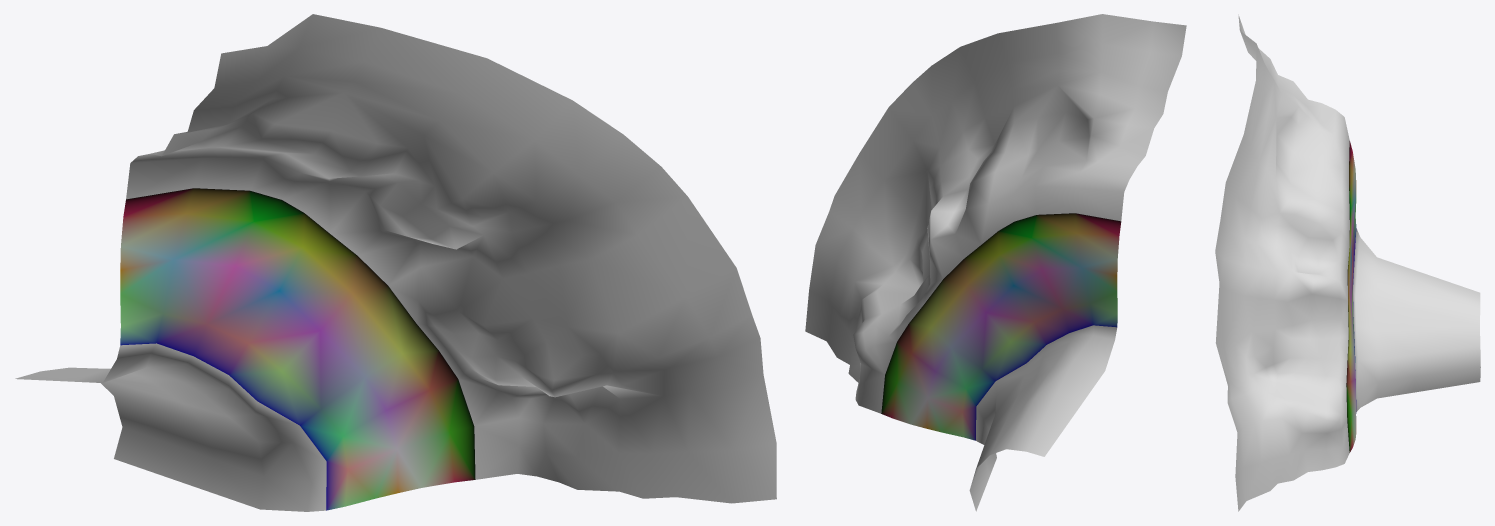
Rendered from Snow_CurveInC_lod2.glb.
3 views of the same model, side by side, from view 1: azimuth 30°, elevation 25°; view 2: azimuth 150°, elevation 25°; view 3: azimuth 270°, elevation 25° (orthographic). The views are drawn at different scales.
Visible parts, largest first — view 1: MeshNode_1, MeshNode_0; view 2: MeshNode_1, MeshNode_0; view 3: MeshNode_1, MeshNode_0.
Part boxes in pixels (bbox=[...]): MeshNode_1: bbox=[15, 14, 776, 511]; MeshNode_0: bbox=[120, 188, 475, 510]; MeshNode_1: bbox=[805, 14, 1186, 511]; MeshNode_0: bbox=[881, 213, 1121, 440]; MeshNode_1: bbox=[1215, 14, 1480, 511]; MeshNode_0: bbox=[1346, 141, 1356, 452].
Bounding box in the file's own units: 128 × 128 × 90.76.
